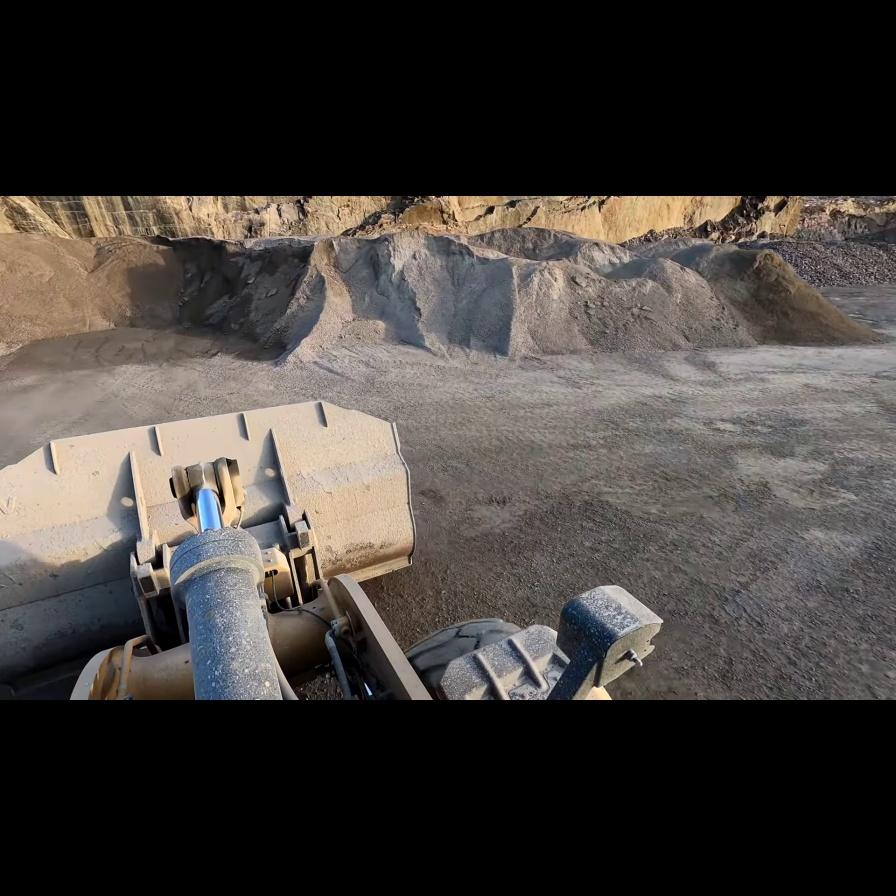anchor: (168, 457, 251, 543)
pile of gravel: (1, 225, 875, 370)
